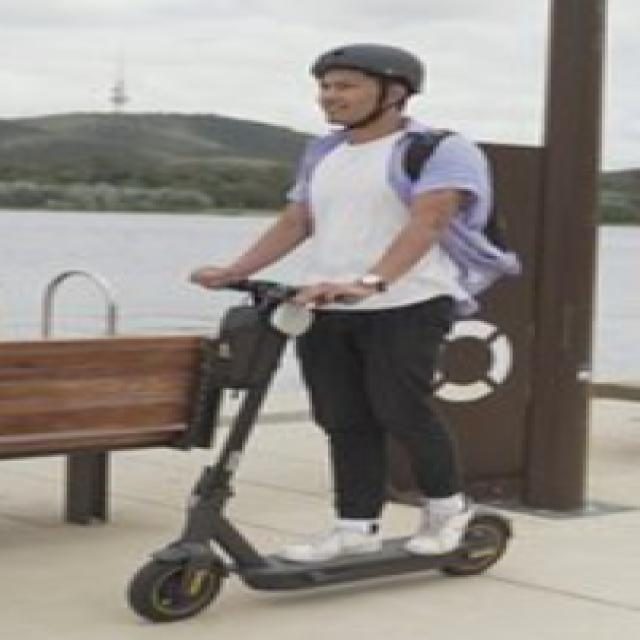helmet: (54, 21, 580, 626)
